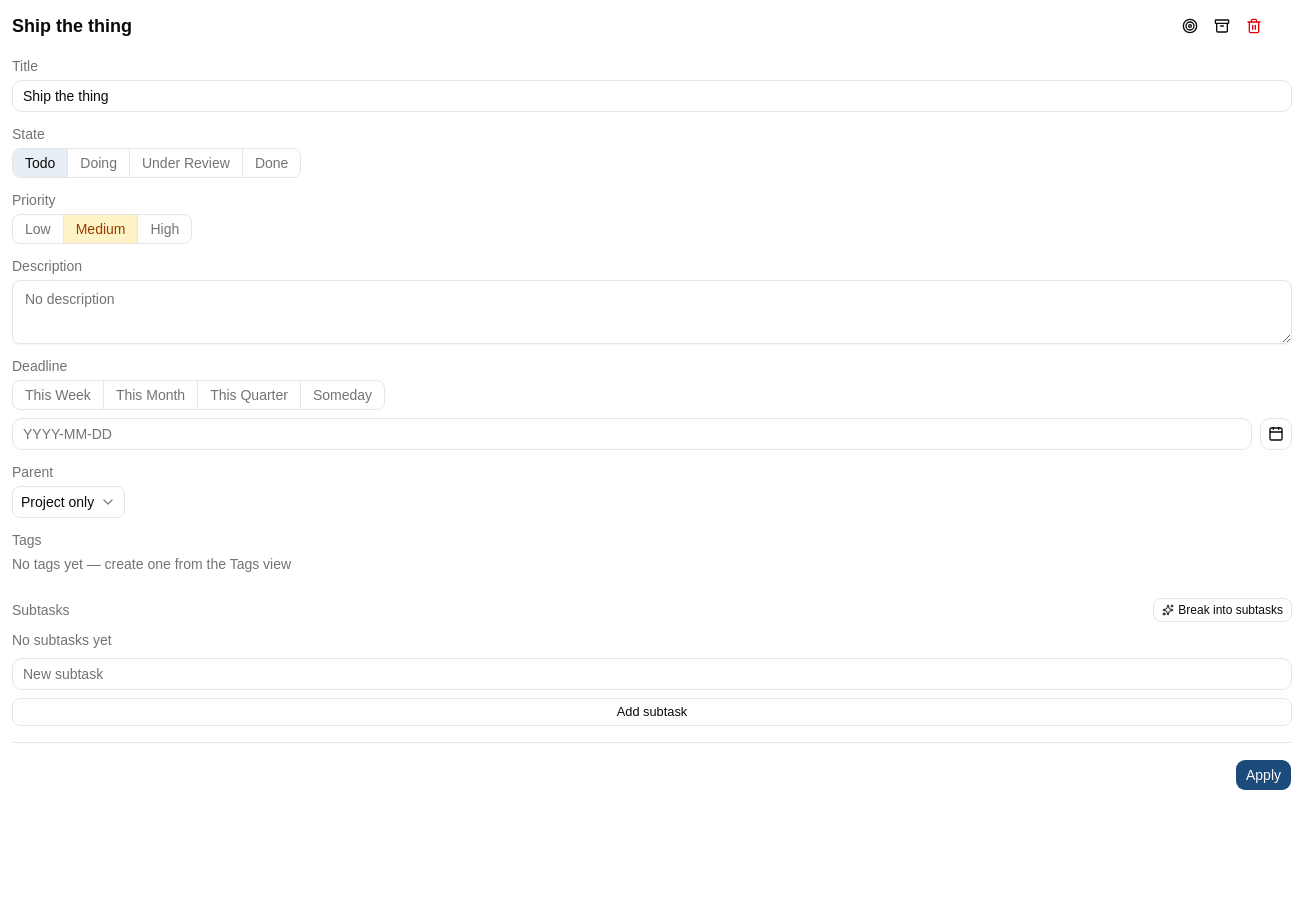
Test case: TaskDetailPanel — priority › shows an error when the priority change fails
Step 1. Click the button "high" → [164, 229], box [138,215,191,243]
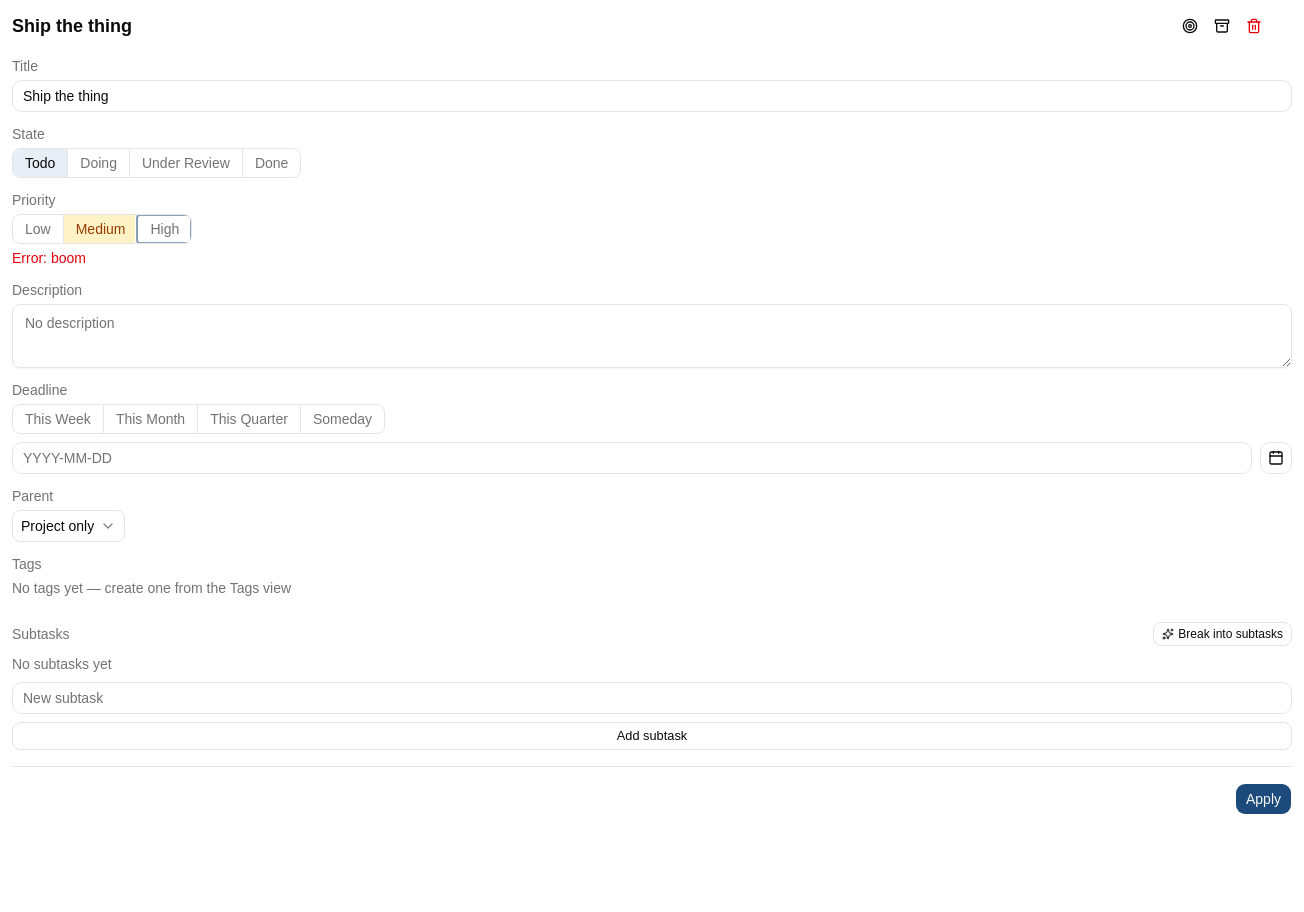
Expected: the text "Error: boom" is shown, [12,250,86,266]
